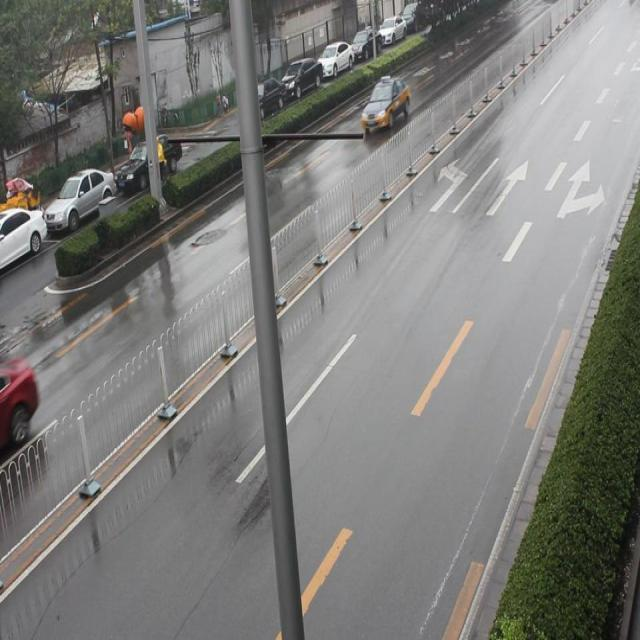car: (1, 349, 43, 465), (362, 72, 414, 136)
